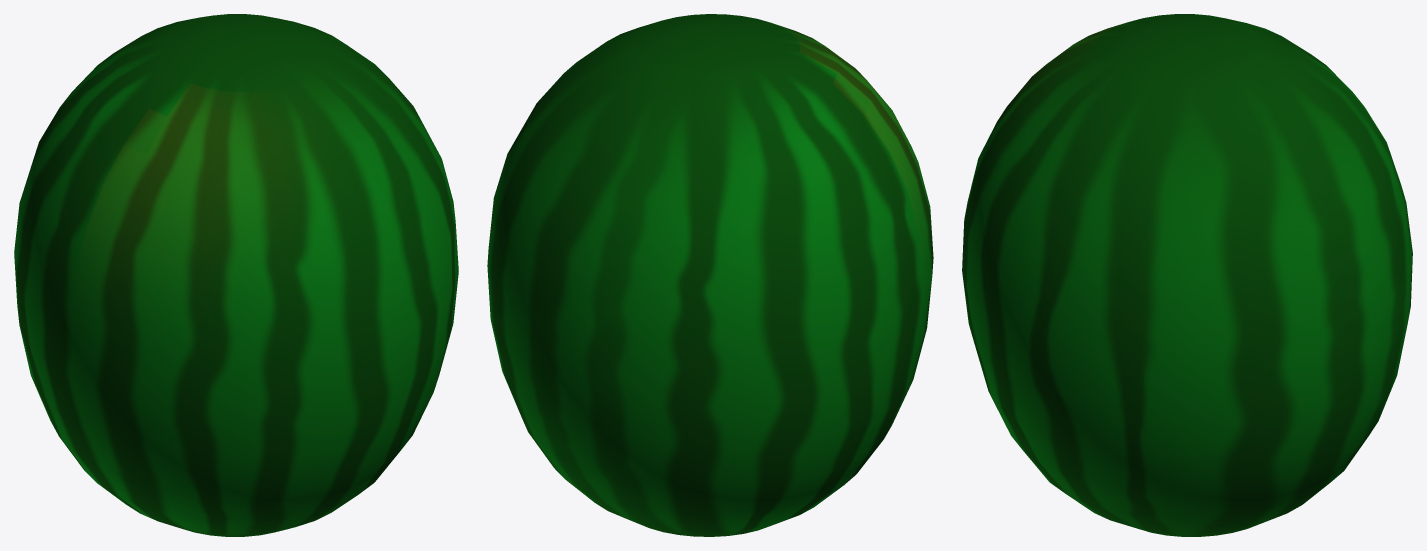
File: melon.fbx
3 renders of one model, left to right at view 1: azimuth 30°, elevation 25°; view 2: azimuth 150°, elevation 25°; view 3: azimuth 270°, elevation 25°, orthographic.
Parts seen in each view (by area): view 1: melon; view 2: melon; view 3: melon.
Boxes of the visible parts, <box> form: melon: <box>14,14,458,536</box>; melon: <box>487,14,933,536</box>; melon: <box>962,14,1412,536</box>.
Size of the model in its own units: 0.2878 by 0.3408 by 0.2913.
1 material, 1 textured.
